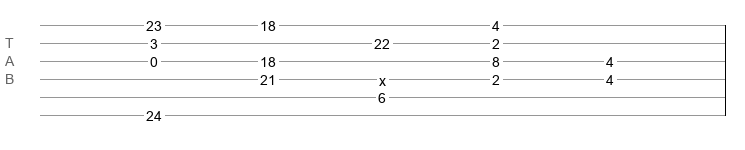0: (150, 54, 158, 64)
18: (260, 18, 276, 28), (260, 54, 276, 64)
2: (492, 72, 500, 82), (492, 36, 500, 46)
21: (260, 72, 276, 82)
22: (374, 36, 390, 46)
23: (146, 18, 162, 28)
24: (146, 108, 162, 118)
3: (150, 36, 158, 46)
4: (492, 18, 500, 28), (606, 54, 614, 64), (606, 72, 614, 82)
6: (378, 90, 386, 100)
8: (492, 54, 500, 64)
x: (379, 73, 386, 81)
